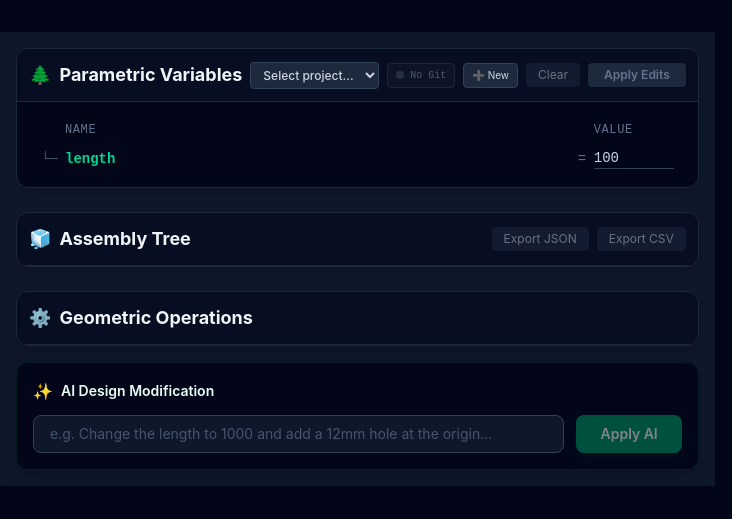
FeatureTreeTab authenticated AI edit › surfaces persistent AI edit status fetch failures
Check: the field showing "100" is shown, box [594,148,674,169]
Replace the text in the field with placeholder "Change the length" with "run a missing edit" at [299, 434], box [33,415,564,453]
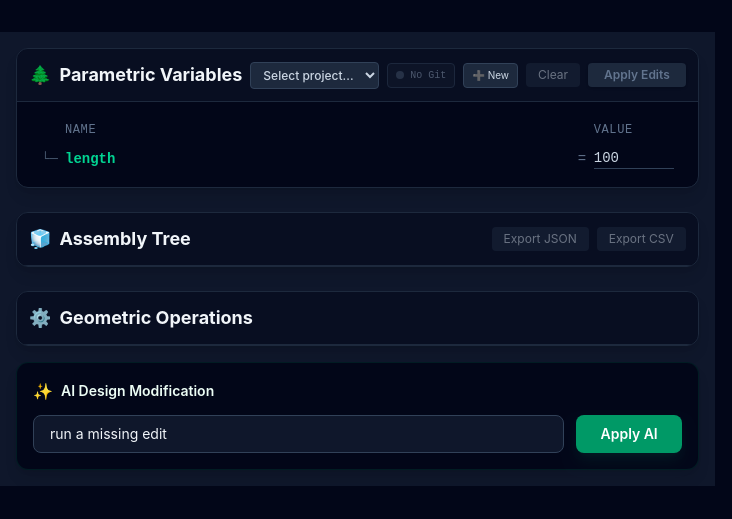
Click the button "Apply AI" at [629, 434], box [576,415,682,453]
Wait 5000 ms
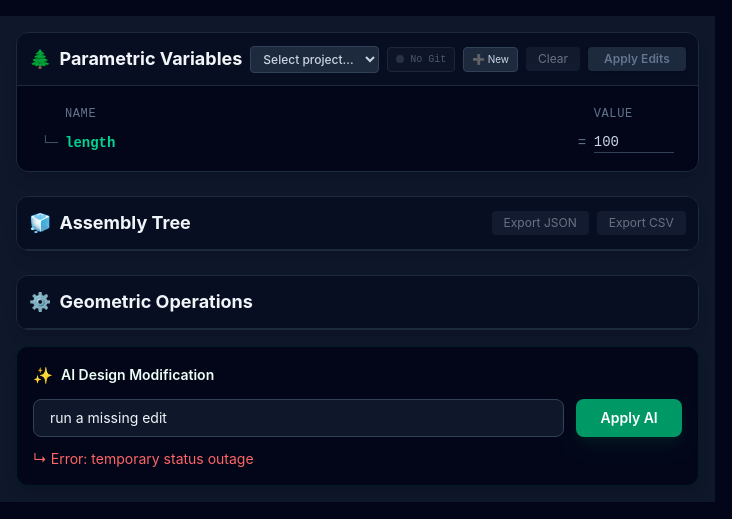
Check: the button "Apply AI" is enabled, box [576,399,682,437]
Check: the text "↳ Error: temporary status outage" is shown, box [33,450,254,467]
